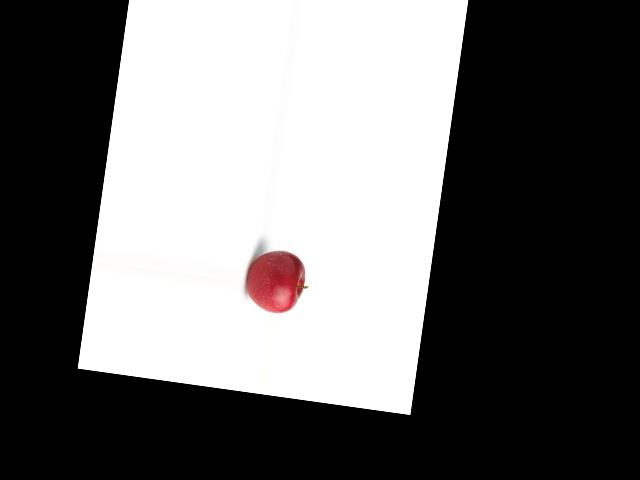apple: (241, 244, 313, 318)
